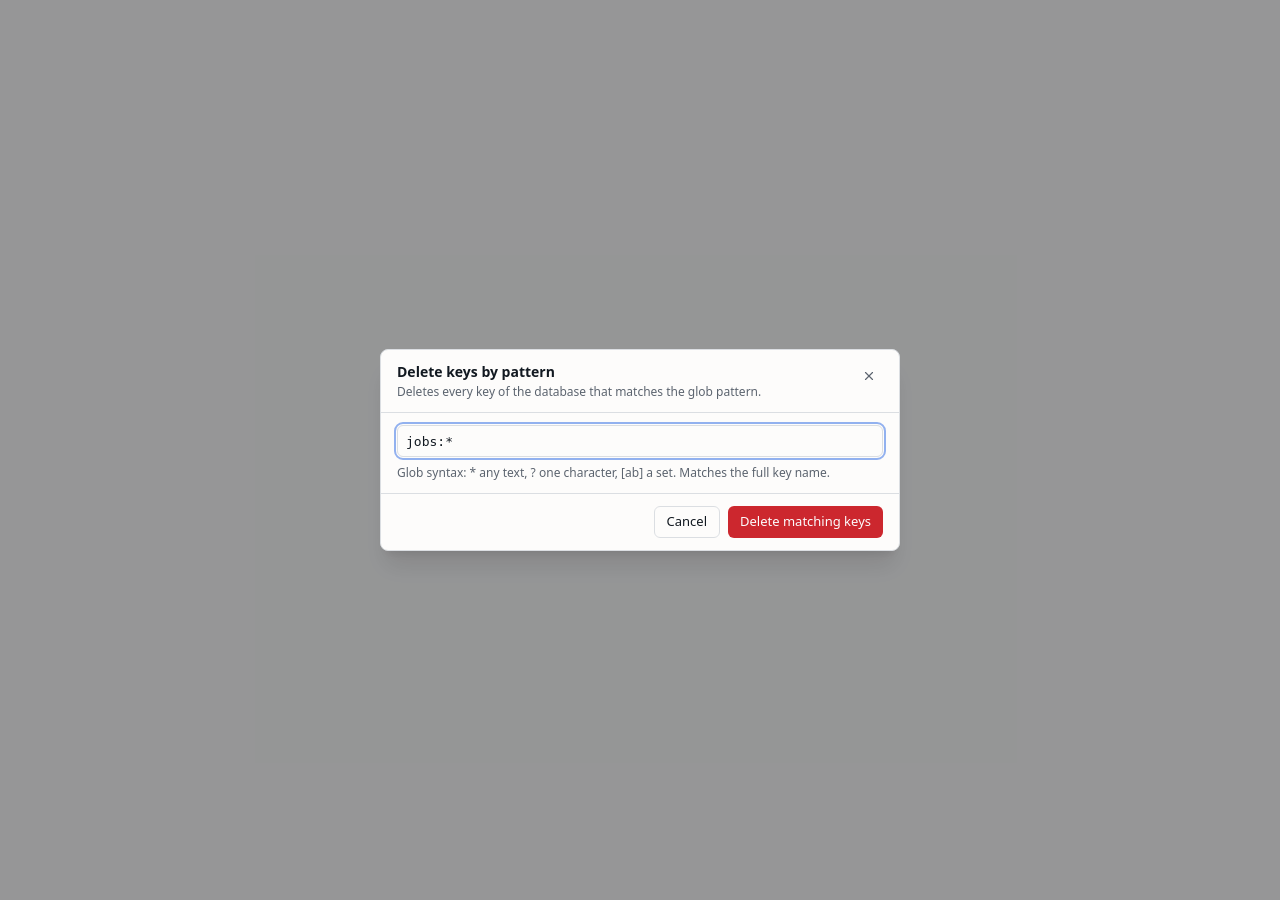
Test case: DeleteByPatternDialog › walks through the typed confirmation required on protected connections
Click the button "Delete matching keys".
click(806, 522)  # box [728,506,883,538]
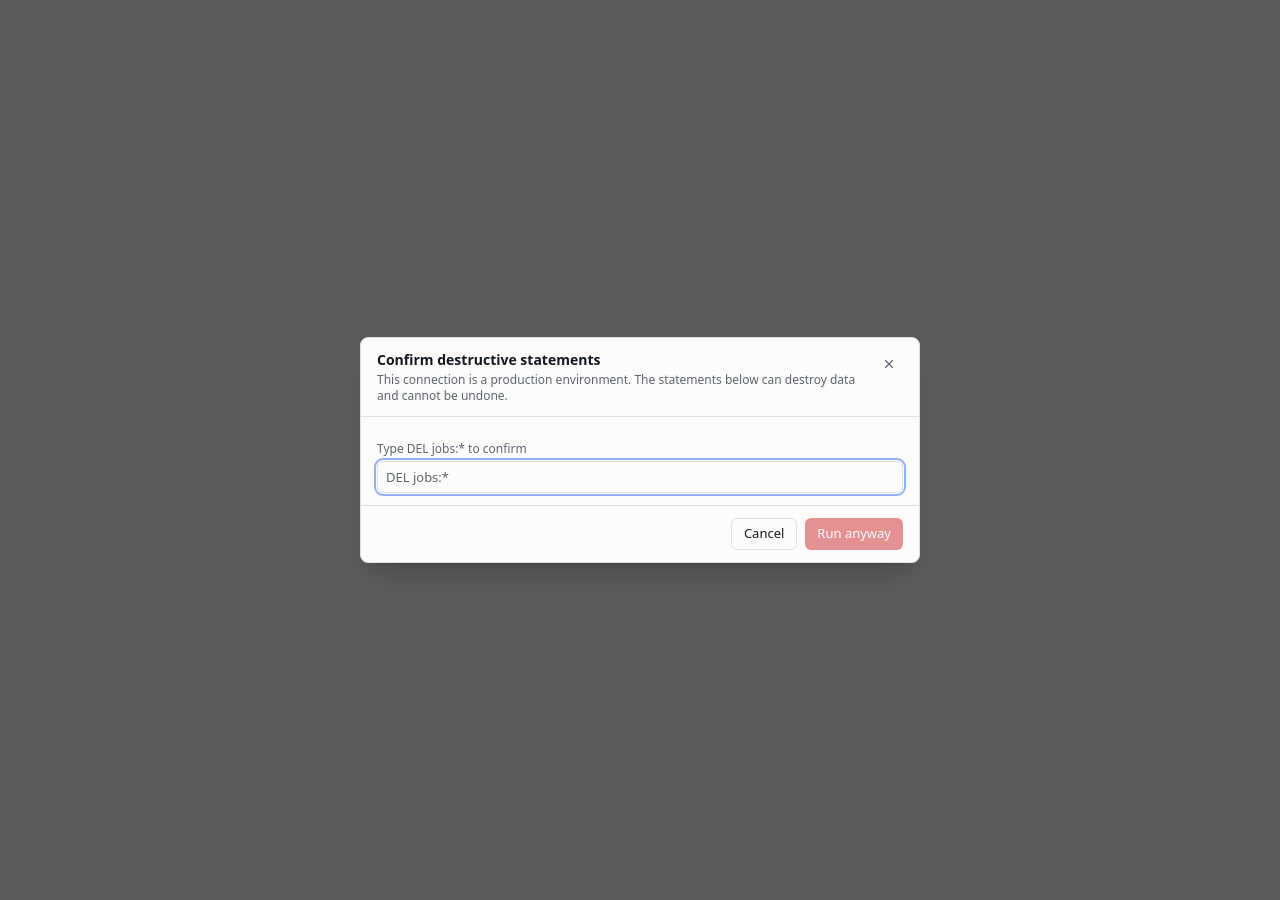
Expected: the button "Run anyway" is disabled, [805,518,903,550]
Expected: the text "Type DEL jobs:* to confirm" is shown, [377,440,527,457]
Type "DEL jobs" into the field labelled "Type DEL jobs:* to confirm".
click(640, 477); type("DEL jobs")  # box [377,461,903,493]
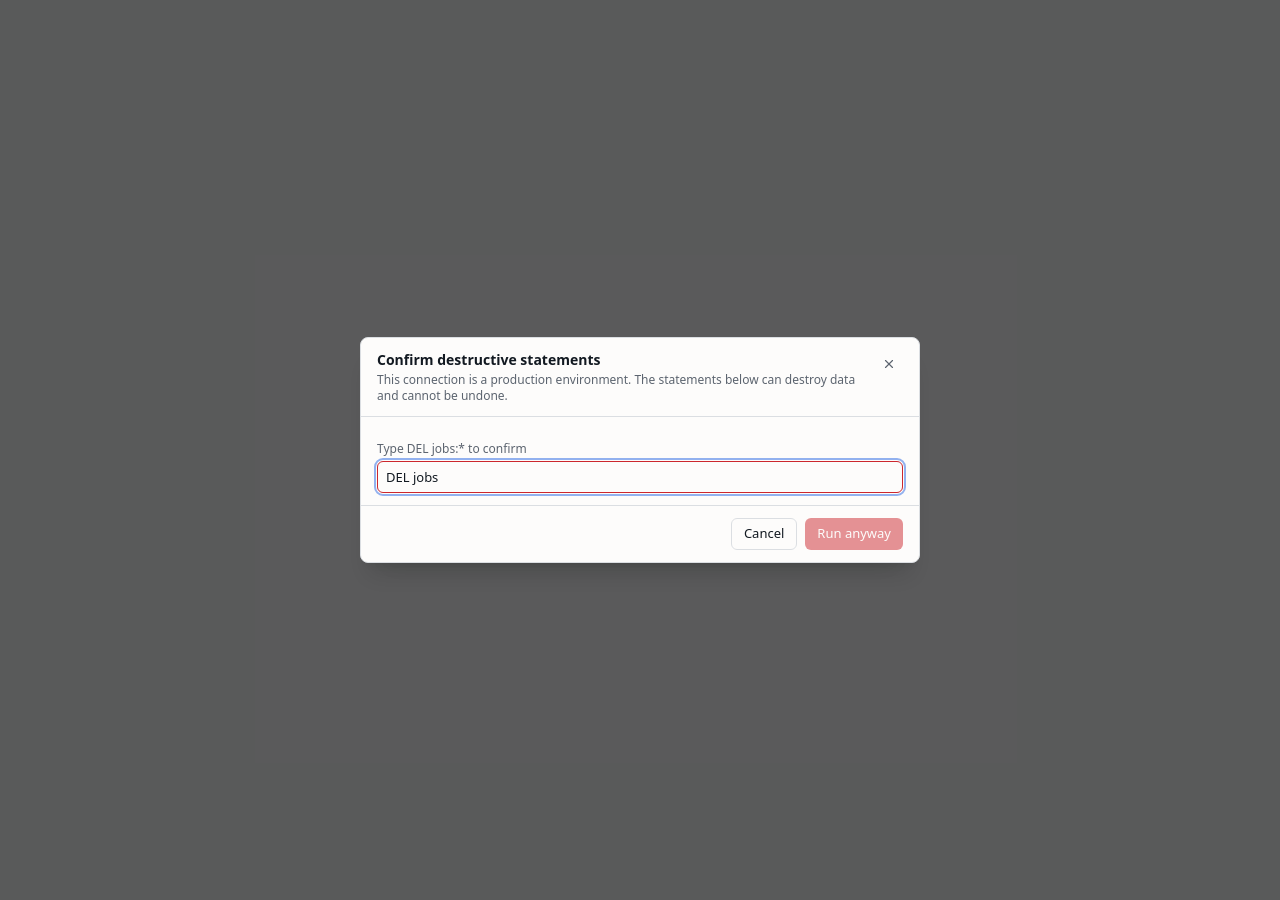
Expected: the button "Run anyway" is disabled, [805,518,903,550]
Type ":*" into the field labelled "Type DEL jobs:* to confirm".
click(640, 477); type(":*")  # box [377,461,903,493]
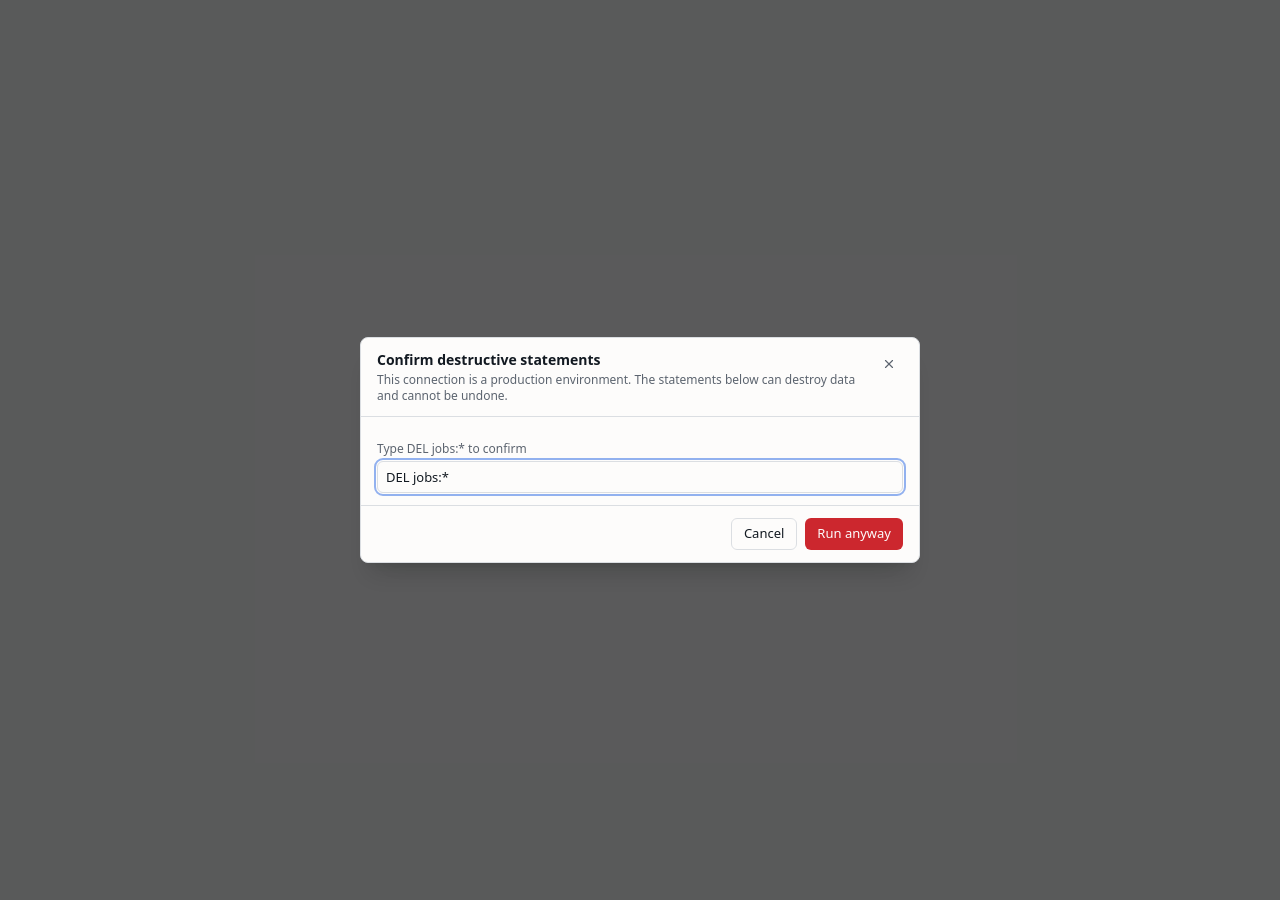
Click the button "Run anyway".
click(854, 534)  # box [805,518,903,550]
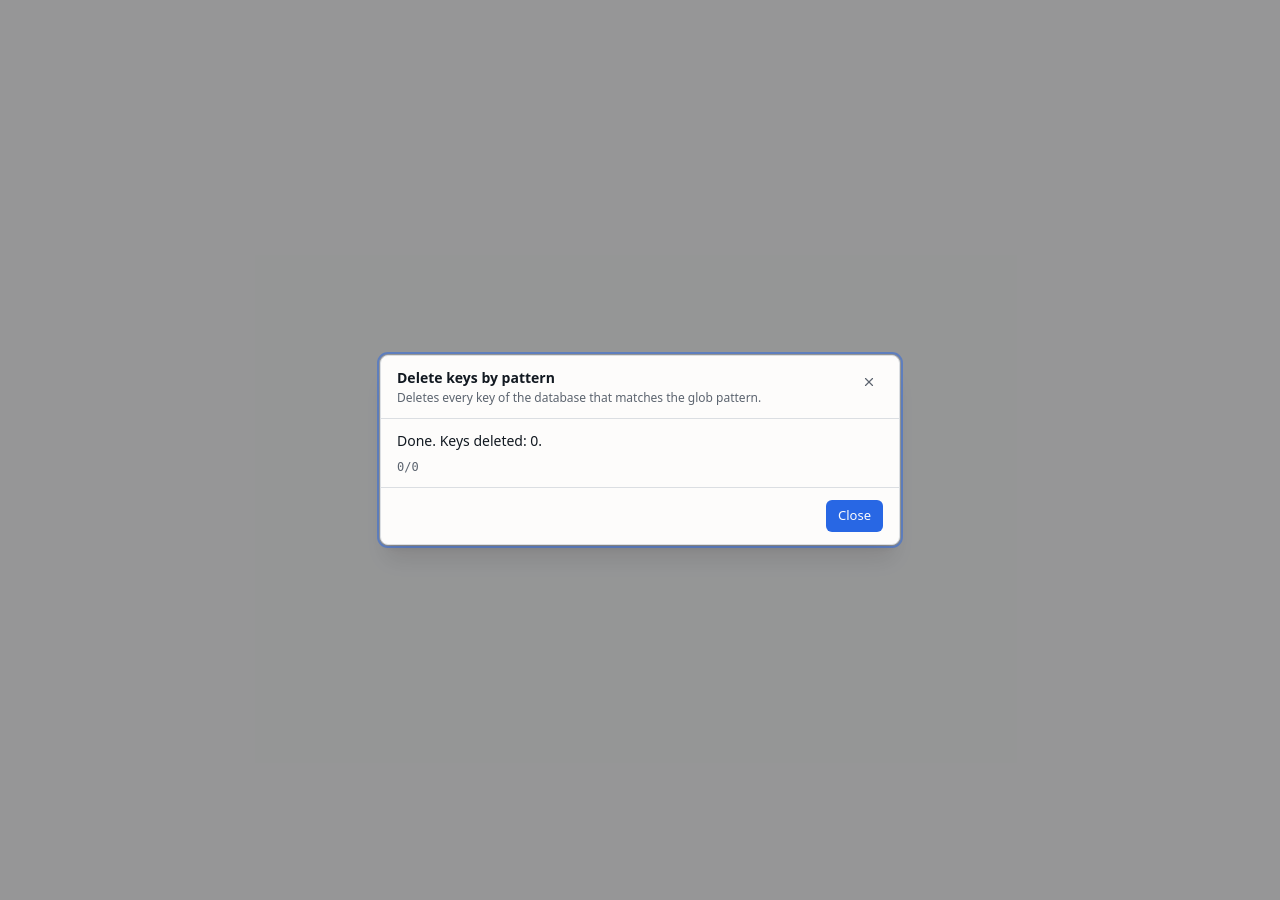
Expected: the text "Done. Keys deleted: 0." is shown, [397,431,542,451]
